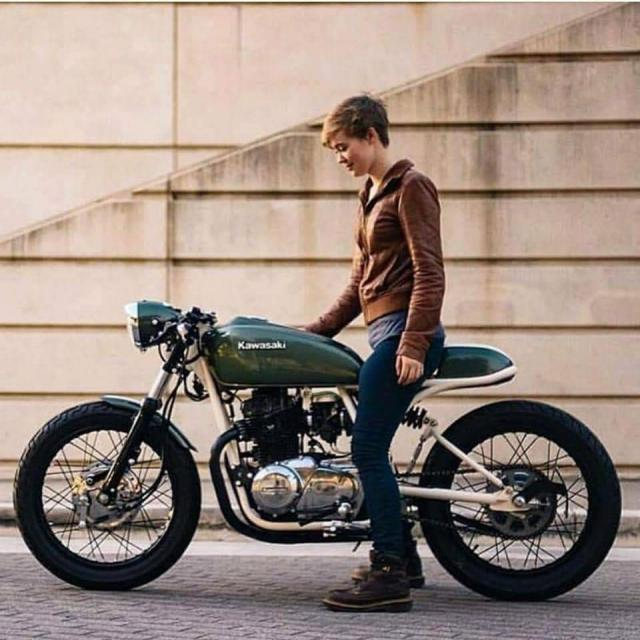Not Wearing Helmet: (242, 105, 455, 281)
